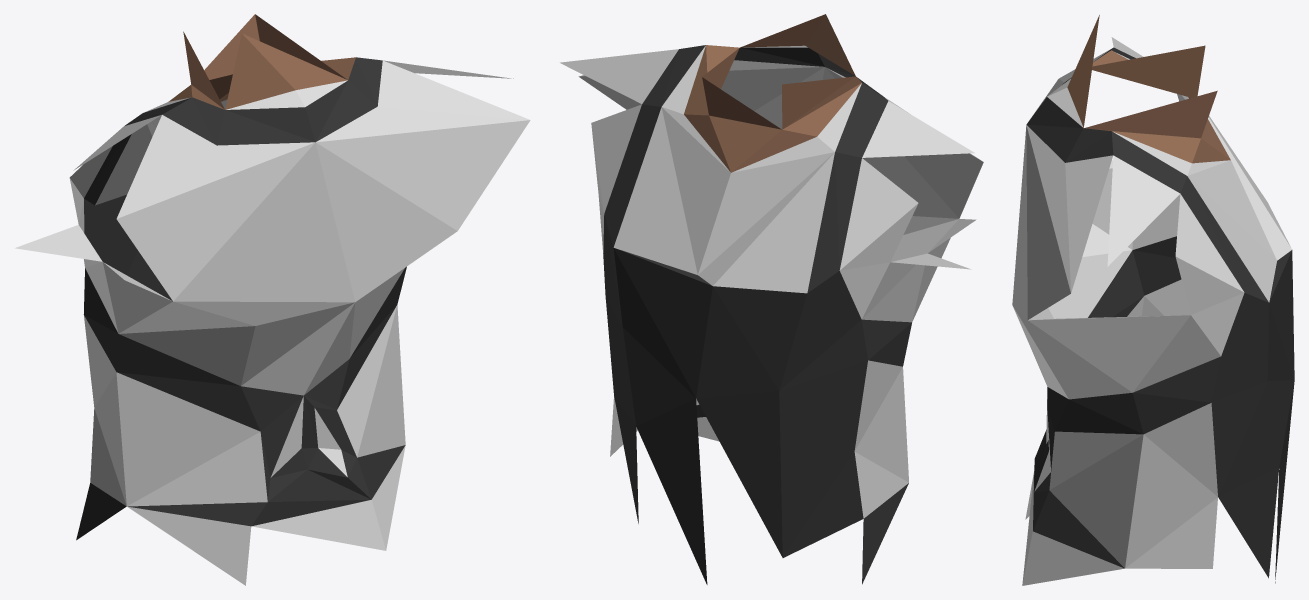
File: Torso.obj
The picture shows the model from 3 angles, left to right: view 1: azimuth 30°, elevation 25°; view 2: azimuth 150°, elevation 25°; view 3: azimuth 270°, elevation 25°; orthographic projection. The views are drawn at different scales.
Size of the model in its own units: 0.5854 by 0.6552 by 0.3036.
1 material, 1 textured.
